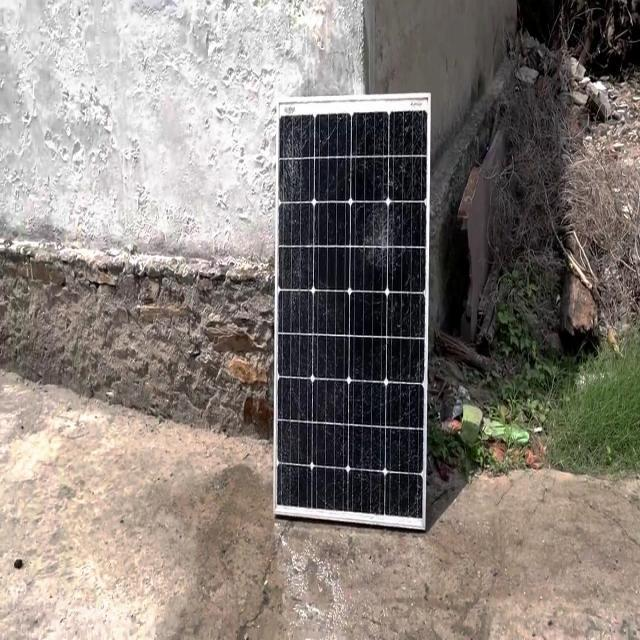faulty: (274, 109, 432, 529)
